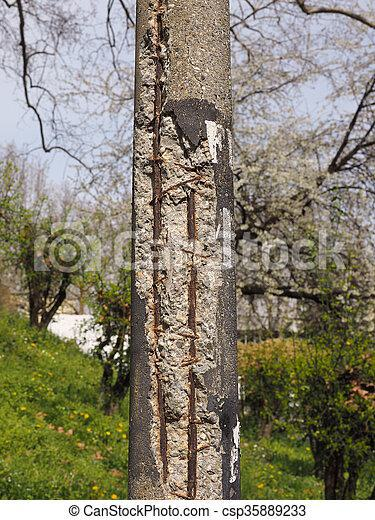Exposed reinforcement: (148, 1, 169, 485), (184, 263, 199, 500), (149, 176, 200, 205), (186, 188, 197, 243)
Spalling: (133, 1, 227, 520)
